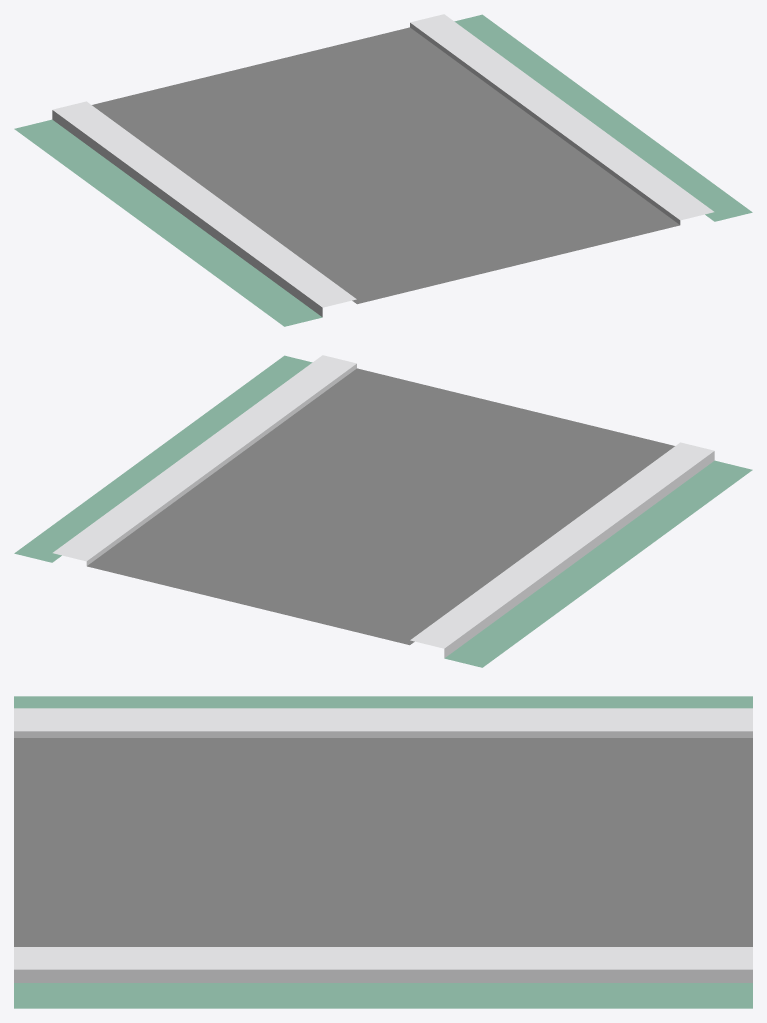
File: roadStraight.glb
3 renders of one model, top to bottom at view 1: azimuth 30°, elevation 25°; view 2: azimuth 150°, elevation 25°; view 3: azimuth 270°, elevation 25°, orthographic. The views are drawn at different scales.
Parts seen in each view (by area): view 1: roadStraight(Clone); view 2: roadStraight(Clone); view 3: roadStraight(Clone).
Part boxes in pixels (x1=…): roadStraight(Clone): x1=14, y1=14, x2=752, y2=326; roadStraight(Clone): x1=14, y1=355, x2=752, y2=667; roadStraight(Clone): x1=14, y1=696, x2=752, y2=1008.
Size of the model in its own units: 1 by 0.02 by 1.
